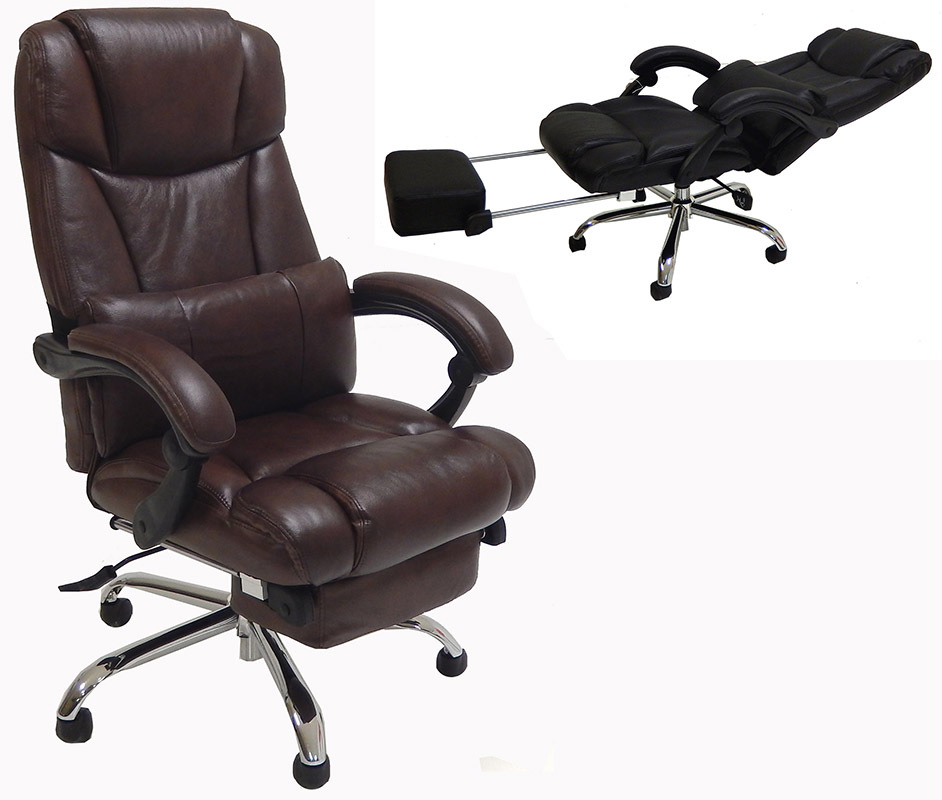chairs: (10, 6, 535, 797), (362, 14, 931, 305)
